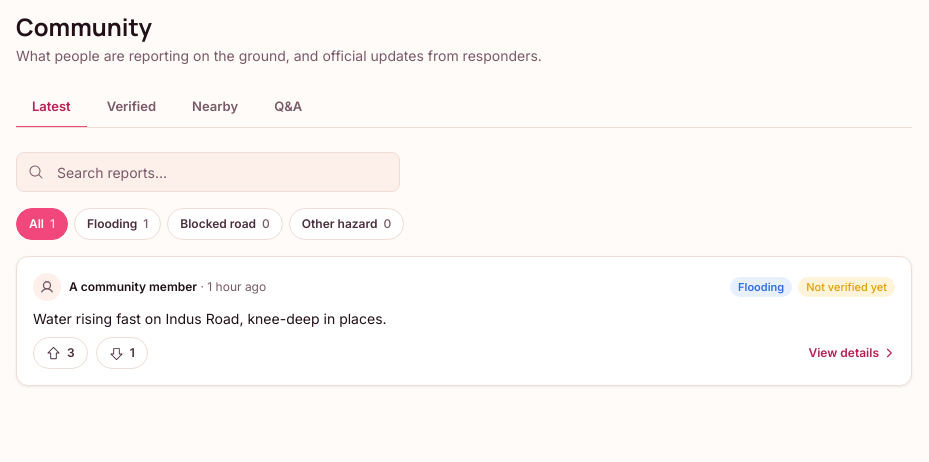
Test case: CommunityPage — voting › a vote on a report that has gone (404) says so and refreshes the feed
Click the button named "Upvote".
click(60, 353)  # box left=33, top=337, right=88, bottom=369
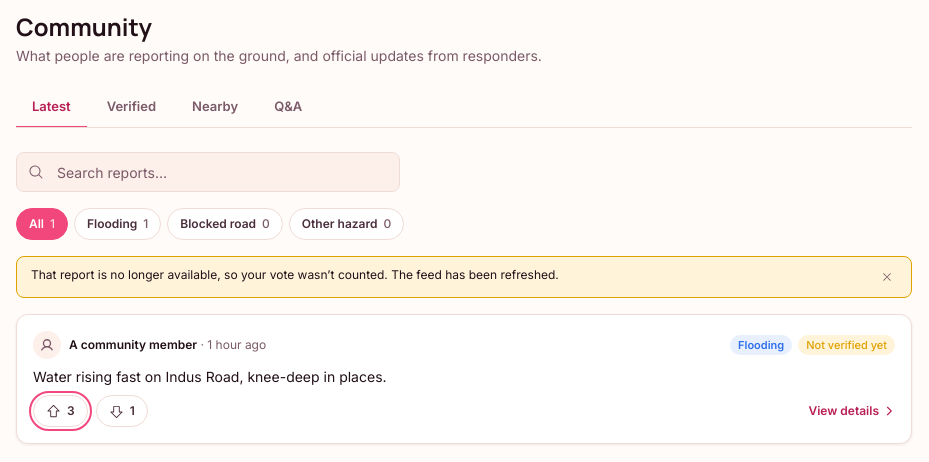
Check: the text "That report is no longer available, so your vote wasn’t counted" is shown, box left=31, top=267, right=559, bottom=282
